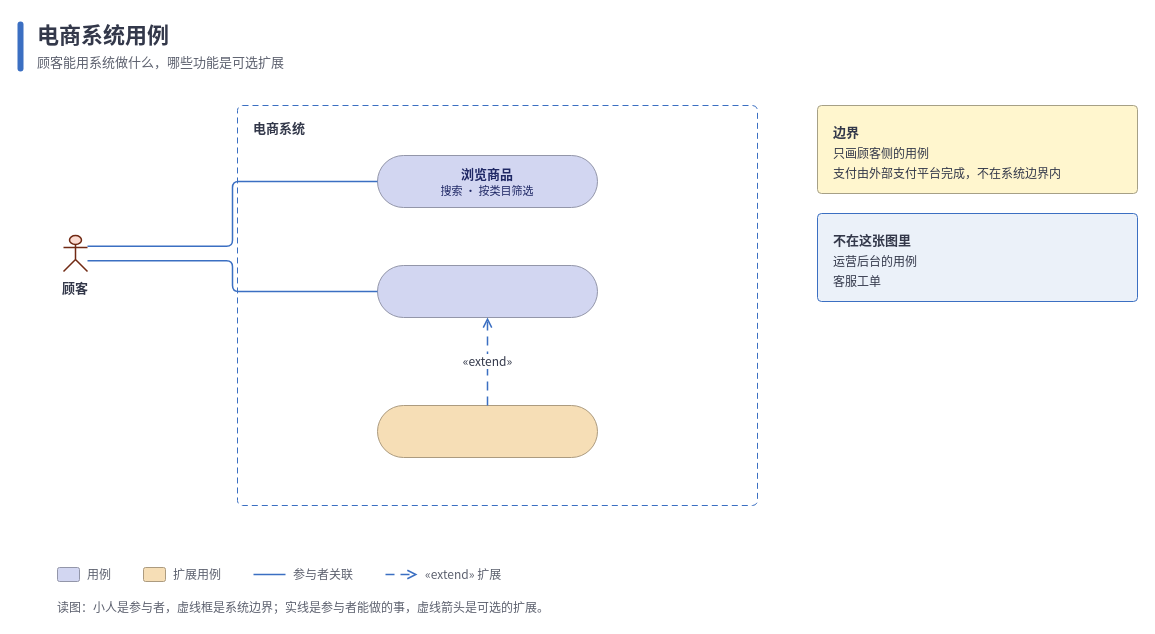
Image size: 1155x634. Some labels were removed from this diagram. The centre of each missing label's shape, as x and y in pixels:
"下单 选地址 · 提交" belongs at (487,291).
"使用优惠券 扩展用例" belongs at (487,431).
